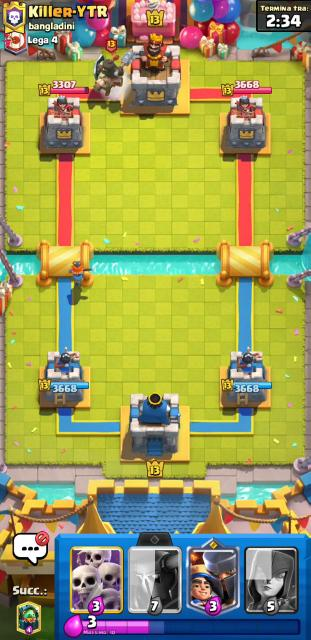ally_melee: (68, 261, 93, 289)
enemy_melee: (92, 50, 135, 97)
